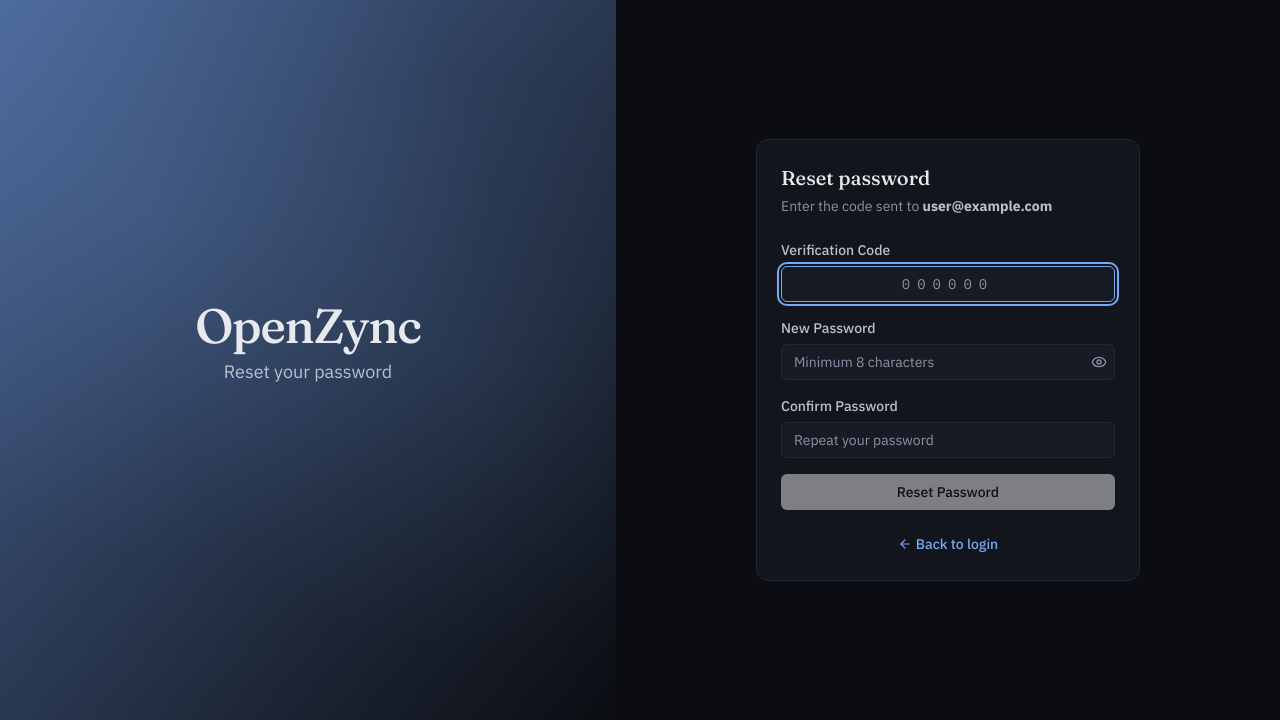
Scenario: ResetPasswordPage › shows error when password is too short
The image size is (1280, 720).
Type "123456" into the field with placeholder "000000" at (948, 284), box [781, 266, 1115, 302]
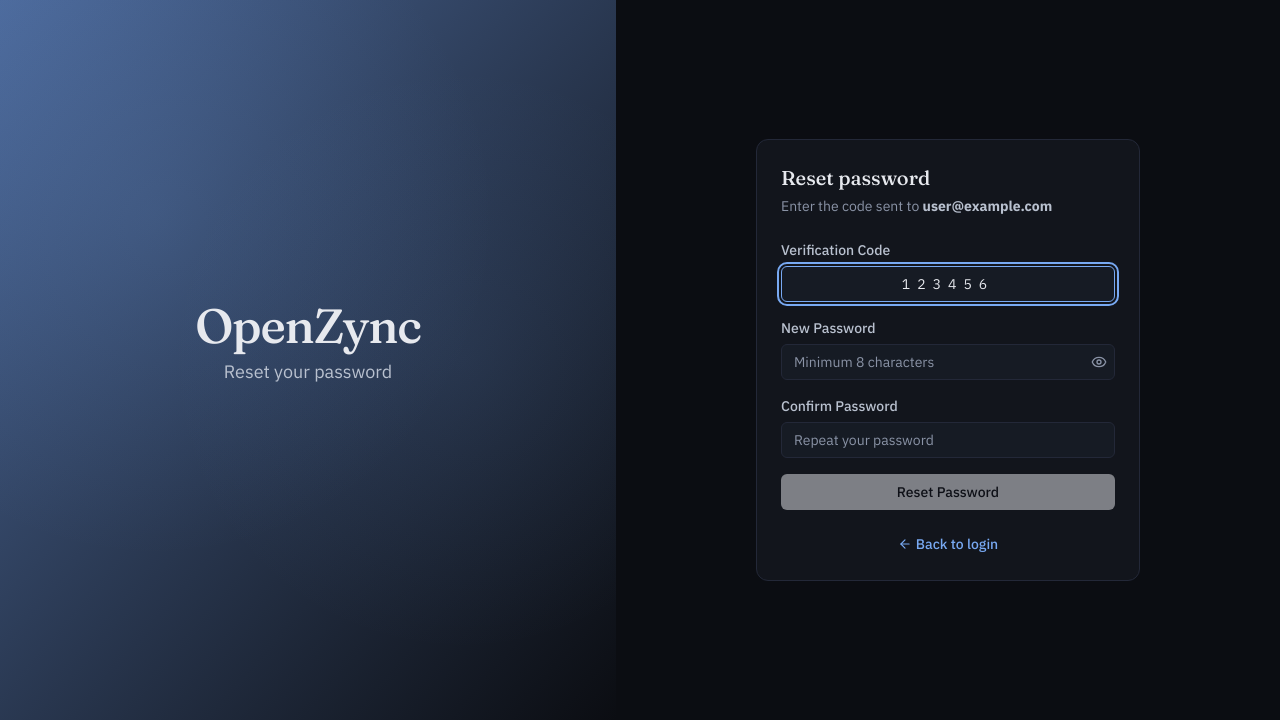
Type "Short1" into the password field with placeholder "Minimum 8 characters" at (948, 362), box [781, 344, 1115, 380]
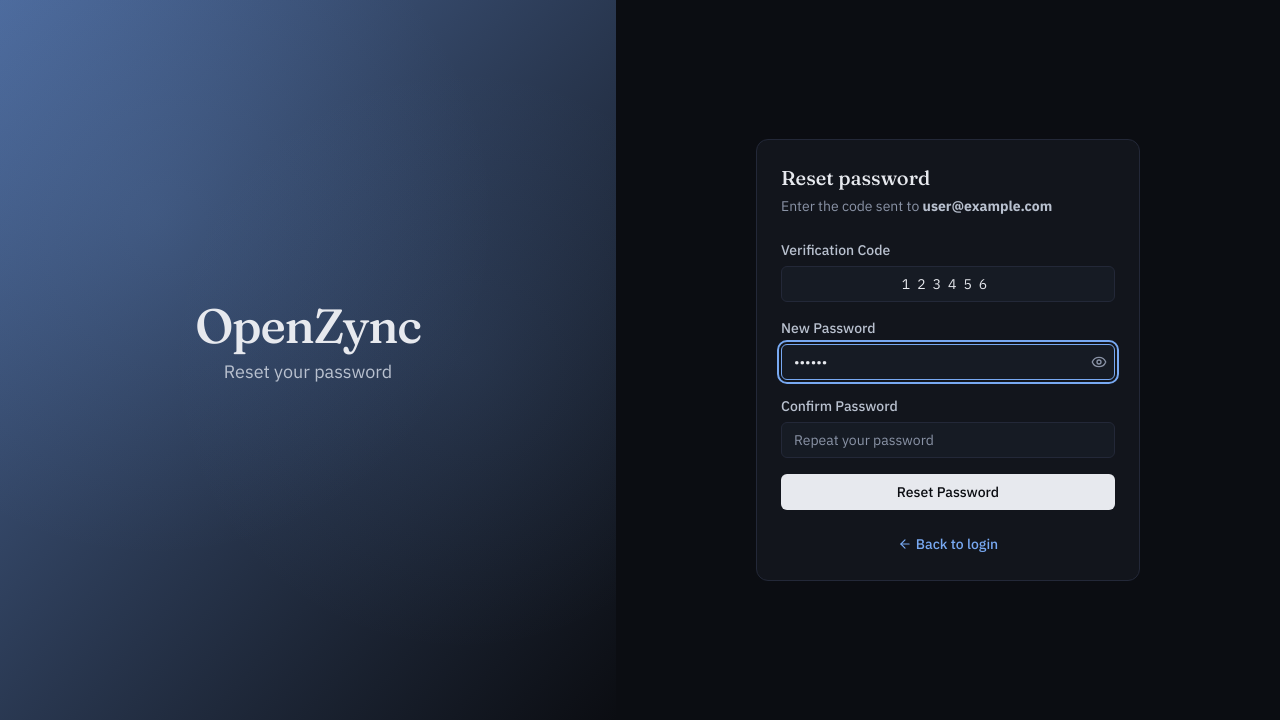
Type "Short1" into the password field with placeholder "Repeat your password" at (948, 440), box [781, 422, 1115, 458]
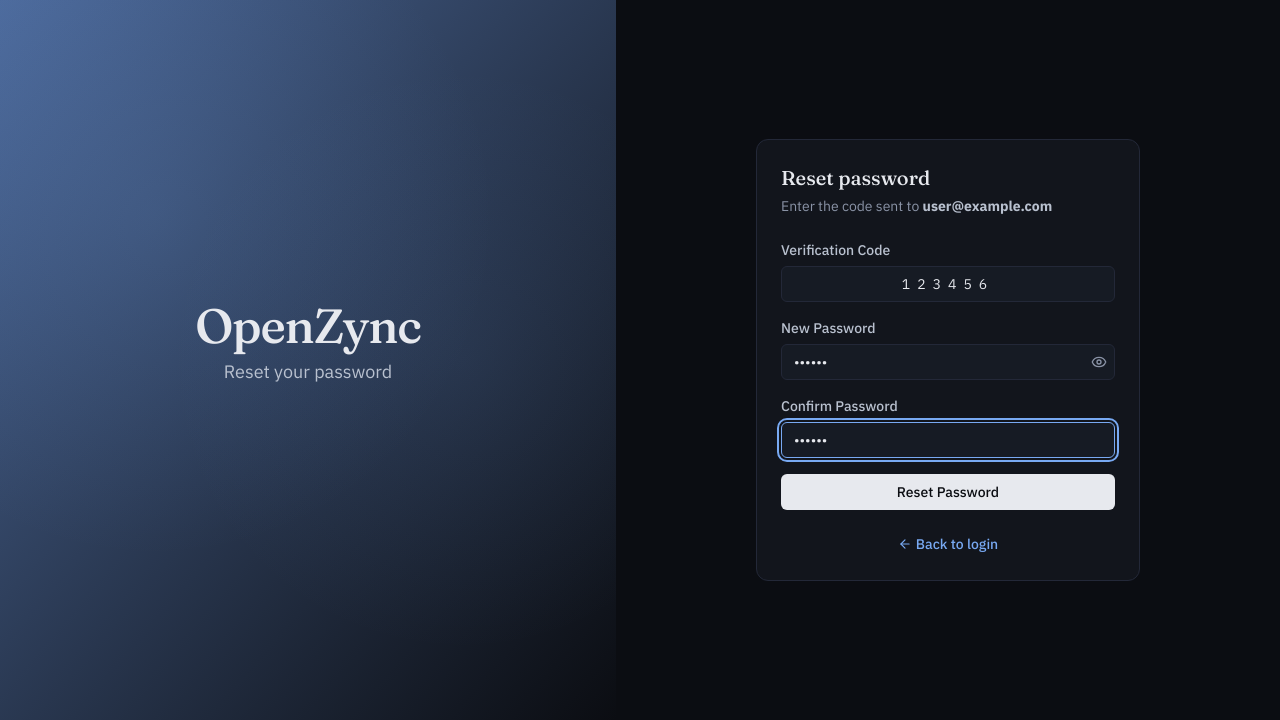
Click the button "Reset Password" at (948, 492), box [781, 474, 1115, 510]
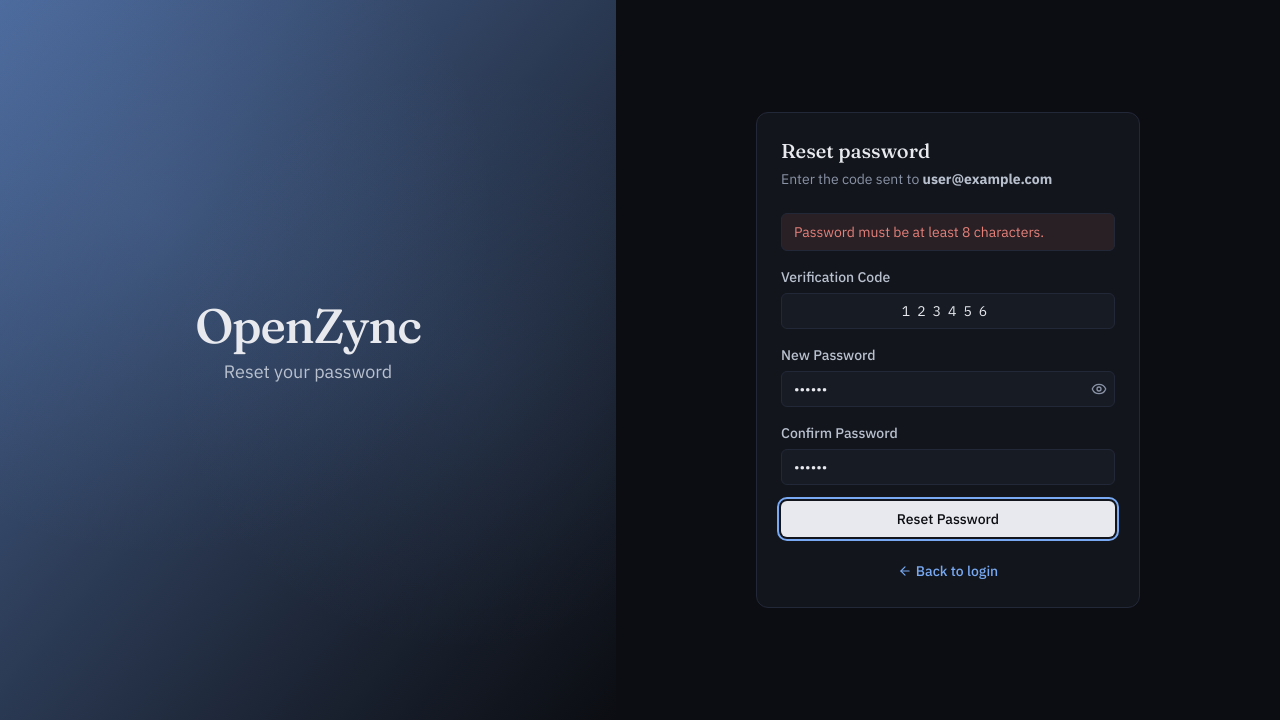
Expected: the text "Password must be at least 8 characters." is shown, [781, 213, 1115, 251]
